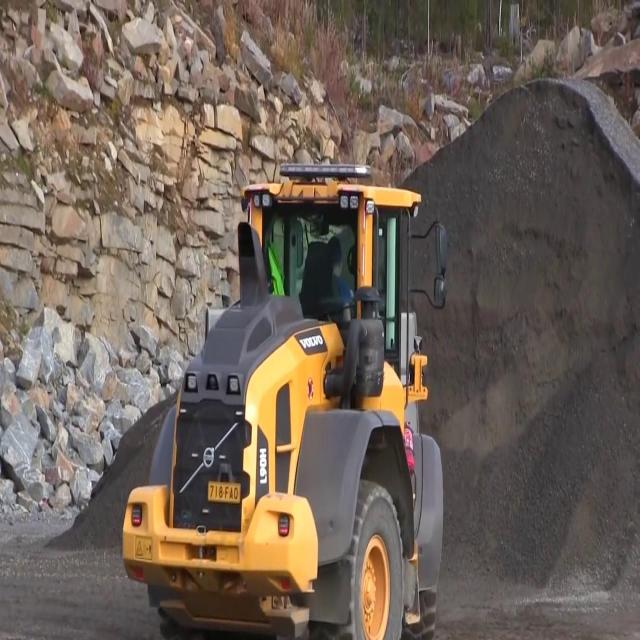buldozerpayloadergrader: (116, 152, 451, 639)
